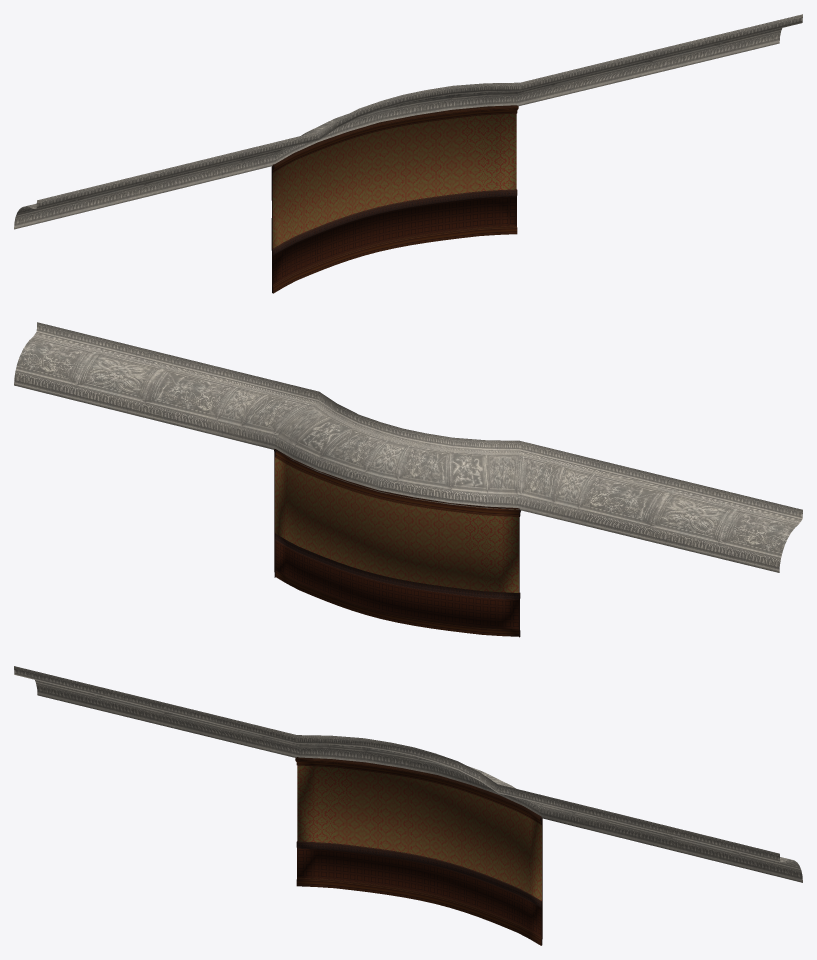
Rendered from WallCurvedSM.fbx.
3 views of the same model, one above another, from view 1: azimuth 30°, elevation 25°; view 2: azimuth 150°, elevation 25°; view 3: azimuth 330°, elevation 25° (orthographic).
Visible parts, largest first — view 1: WallSection1Curved, CeilingCurved for wallCurve; view 2: CeilingCurved for wallCurve, WallSection1Curved; view 3: WallSection1Curved, CeilingCurved for wallCurve.
Part boxes in pixels (x1,y1,x2,y2): WallSection1Curved: [271, 105, 518, 293]; CeilingCurved for wallCurve: [14, 14, 802, 229]; CeilingCurved for wallCurve: [14, 322, 802, 572]; WallSection1Curved: [274, 449, 520, 637]; WallSection1Curved: [295, 757, 542, 945]; CeilingCurved for wallCurve: [14, 666, 802, 882].
Size of what is drawn, in the model's own units: 2314 by 501 by 219.
